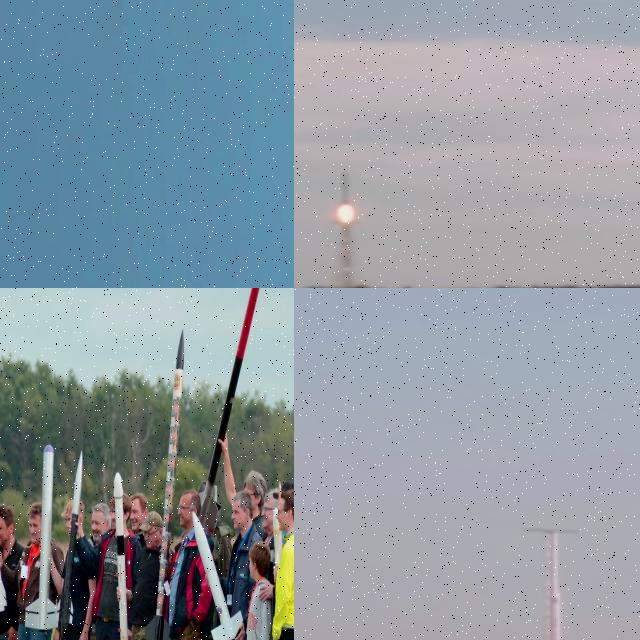Rocket: (198, 288, 271, 506), (144, 328, 184, 640), (191, 512, 244, 640), (25, 444, 59, 632), (56, 452, 82, 625), (110, 472, 134, 640), (0, 417, 7, 611), (272, 509, 284, 609), (549, 590, 563, 640), (341, 173, 351, 206)
